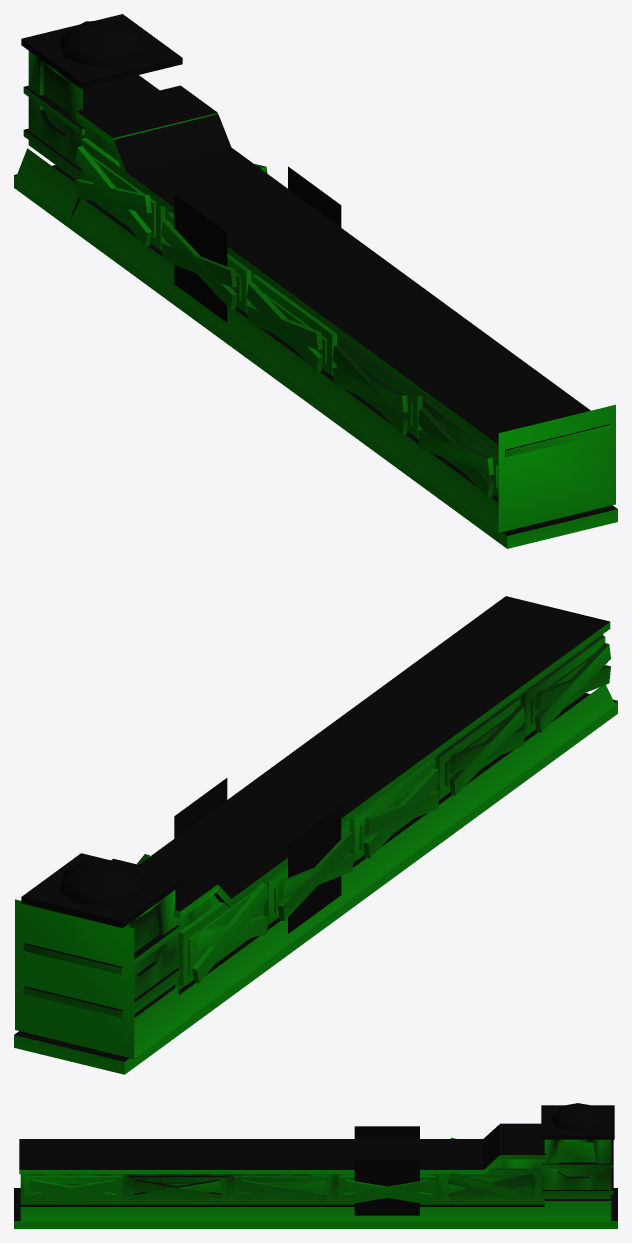
File: l_lightwall.glb
The picture shows the model from 3 angles, top to bottom: view 1: azimuth 30°, elevation 25°; view 2: azimuth 150°, elevation 25°; view 3: azimuth 270°, elevation 25°; orthographic projection. The views are drawn at different scales.
Visible parts, largest first — view 1: lod0; view 2: lod0; view 3: lod0.
Part boxes in pixels (x1=…): lod0: x1=14, y1=14, x2=617, y2=548; lod0: x1=14, y1=596, x2=617, y2=1074; lod0: x1=14, y1=1103, x2=617, y2=1228.
Size of what is drawn, in the model's own units: 3.96 by 5.36 by 27.79.
